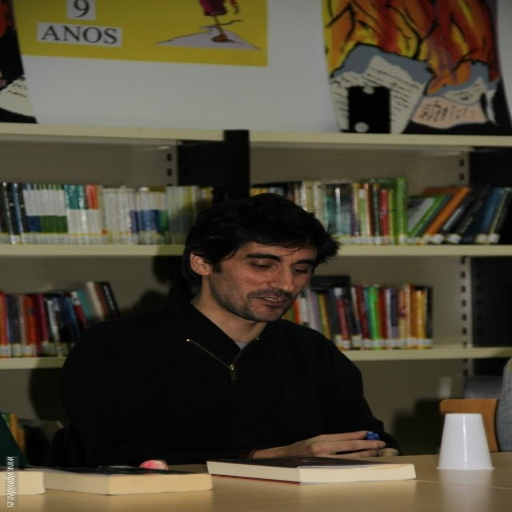hand: (289, 427, 414, 470)
